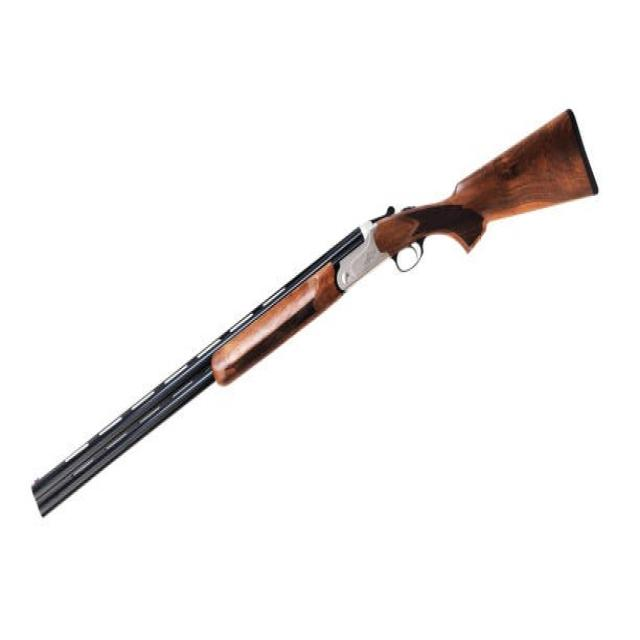rifle: (26, 100, 601, 530)
